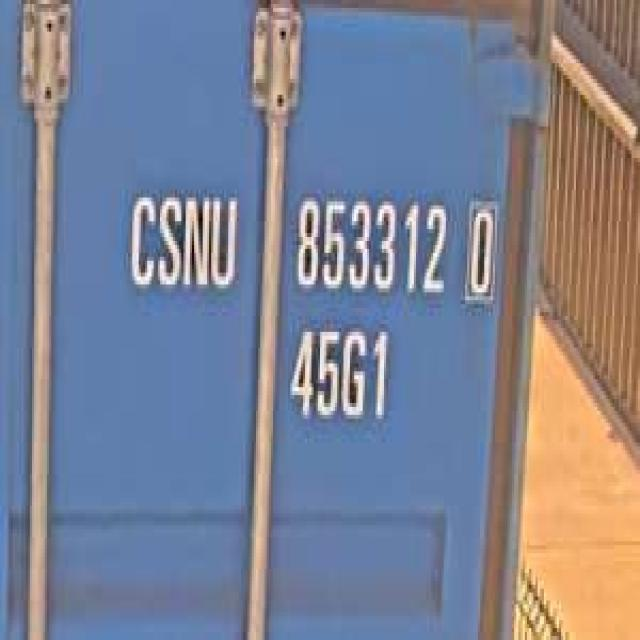dv: (462, 192, 501, 315)
owner: (120, 176, 242, 308)
serial: (291, 186, 450, 315)
size: (286, 320, 395, 434)
